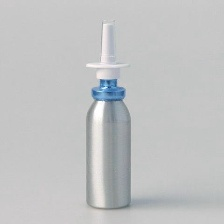bottle: (82, 14, 136, 213)
